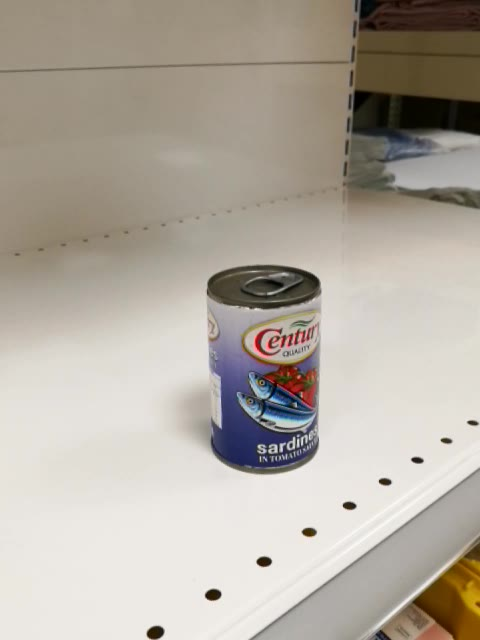sardine: (207, 264, 320, 474)
